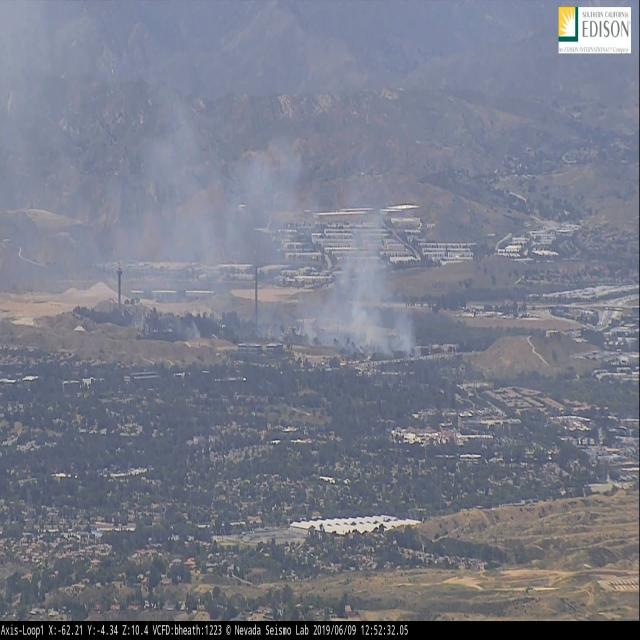smoke: (0, 0, 418, 357)
